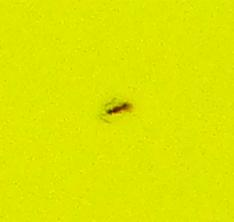Hymenoptera: (100, 100, 134, 122)
